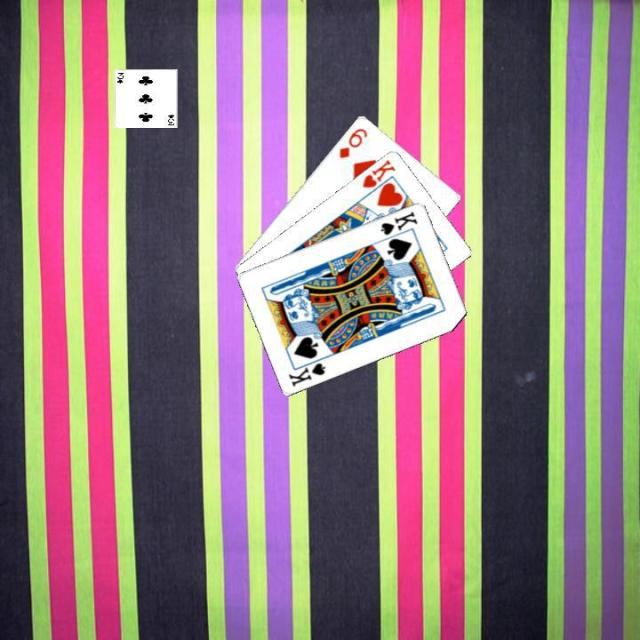6D: (335, 124, 369, 160)
KH: (358, 155, 398, 189)
KS: (285, 352, 327, 388), (377, 207, 419, 237)
